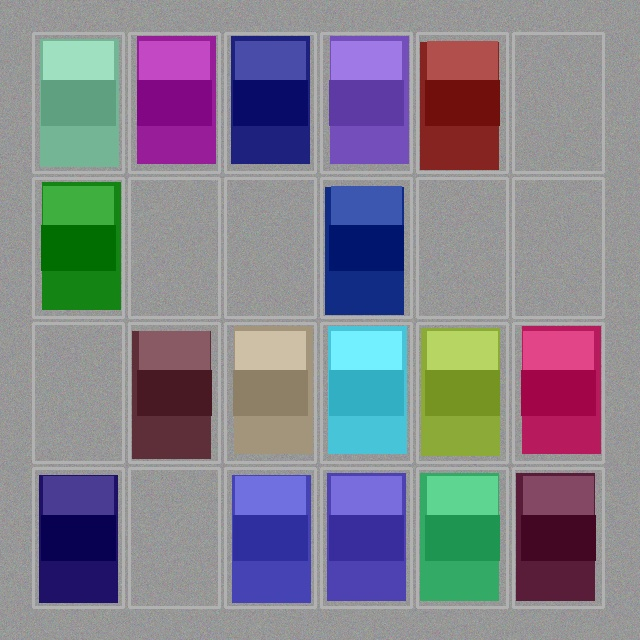space-empty: (515, 35, 601, 170), (131, 180, 217, 315), (227, 180, 313, 315), (419, 180, 505, 315), (515, 180, 601, 315), (35, 325, 121, 460), (131, 470, 217, 605)
space-occupied: (35, 35, 121, 170), (131, 35, 217, 170), (227, 35, 313, 170), (323, 35, 409, 170), (419, 35, 505, 170), (35, 180, 121, 315), (323, 180, 409, 315), (131, 325, 217, 460), (227, 325, 313, 460), (323, 325, 409, 460), (419, 325, 505, 460), (515, 325, 601, 460), (35, 470, 121, 605), (227, 470, 313, 605), (323, 470, 409, 605), (419, 470, 505, 605), (515, 470, 601, 605)
